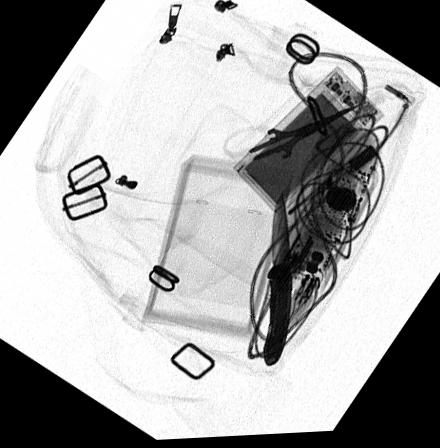Knife: (264, 192, 291, 369)
Powerbank: (232, 68, 383, 216)
Scissors: (221, 102, 366, 190)
